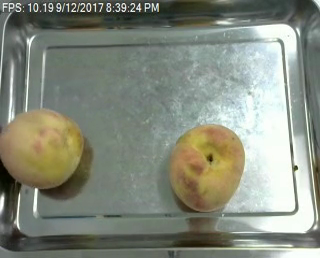Peach: (1, 107, 85, 190), (168, 122, 245, 212)
